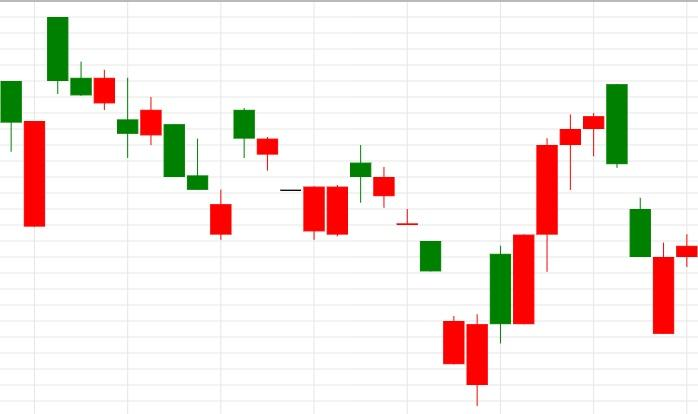bearish_engulfing_fall: (514, 85, 628, 324)
